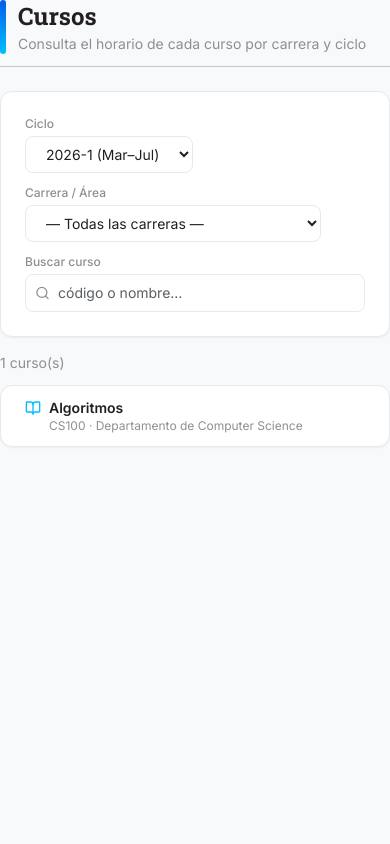
Test case: CursosPage › lista cursos y muestra el horario al abrir uno
The width and height of the screenshot is (390, 844).
Expected: the heading "Cursos" is shown, [18,0,97,32]
El curso aparece
Click the text "Algoritmos" at x=86, y=408, box [49,399,123,416]
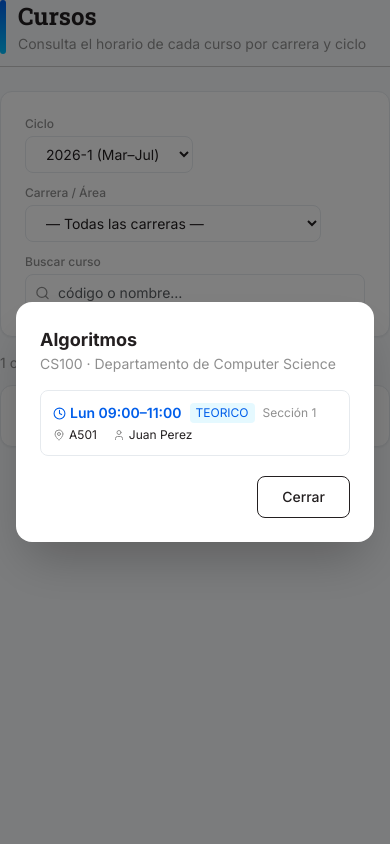
Result: the text "A501" is shown at [53,427,97,443]
Result: the text "Lun 09:00–11:00" is shown at [53,403,182,423]
Result: the text "Juan Perez" is shown at [113,427,192,443]
